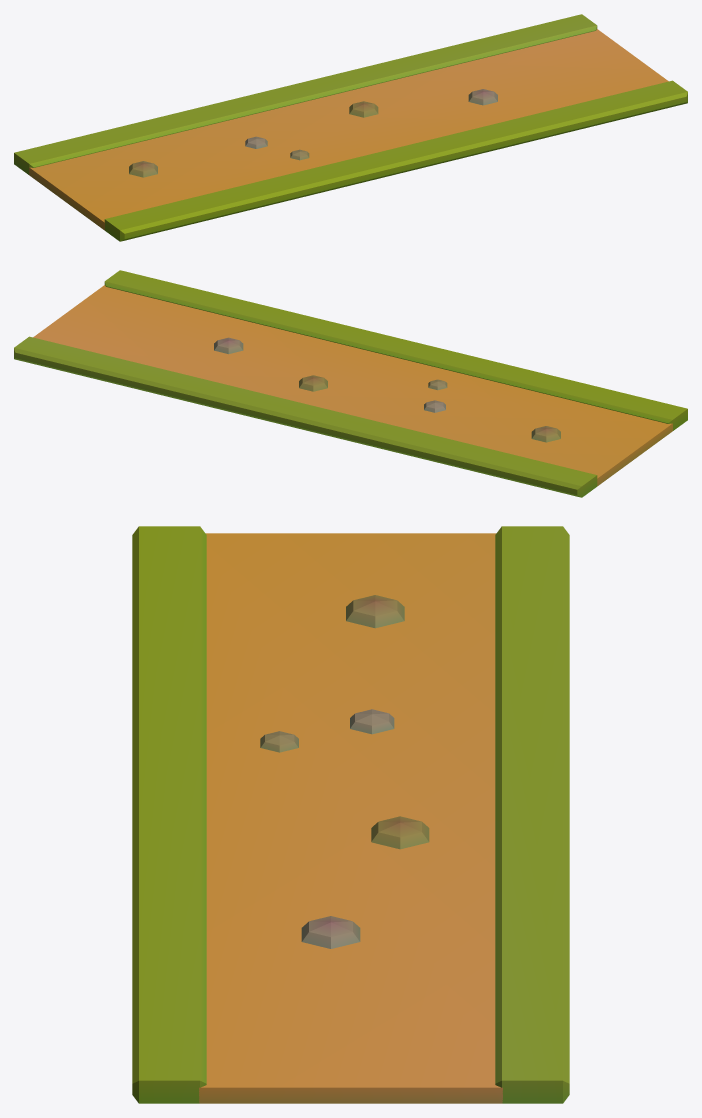
File: Farm_FieldPath_3m.fbx
The picture shows the model from 3 angles, top to bottom: view 1: azimuth 30°, elevation 25°; view 2: azimuth 150°, elevation 25°; view 3: azimuth 270°, elevation 25°; orthographic projection. The views are drawn at different scales.
Visible parts, largest first — view 1: Farm_FieldPath_3m; view 2: Farm_FieldPath_3m; view 3: Farm_FieldPath_3m.
Part boxes in pixels (box(x1,y1,x2,y2)): Farm_FieldPath_3m: box(14, 14, 687, 241); Farm_FieldPath_3m: box(14, 270, 687, 497); Farm_FieldPath_3m: box(132, 526, 569, 1103).
Size of the model in its own units: 3 by 0.0738 by 1.
